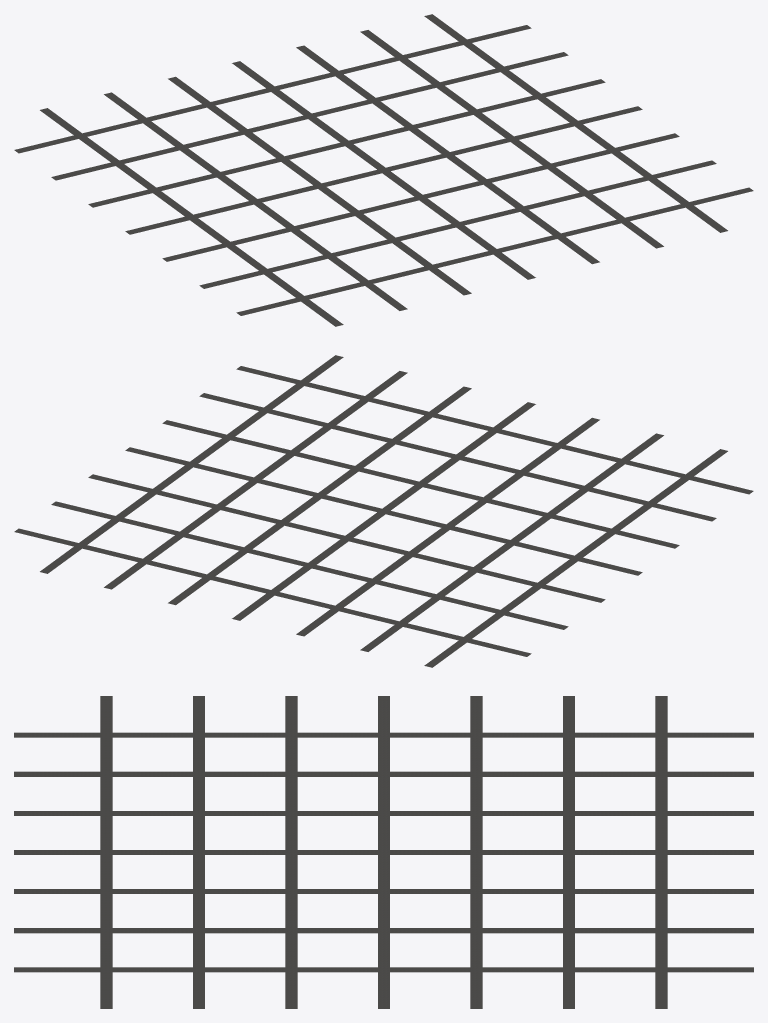
File: old_town_dense_scene.obj
3 renders of one model, top to bottom at view 1: azimuth 30°, elevation 25°; view 2: azimuth 150°, elevation 25°; view 3: azimuth 270°, elevation 25°, orthographic. The views are drawn at different scales.
Visible parts, largest first — view 1: old_town_dense_scene; view 2: old_town_dense_scene; view 3: old_town_dense_scene.
Boxes of the visible parts, box(x1,y1,x2,y2) form: old_town_dense_scene: box(14, 14, 753, 326); old_town_dense_scene: box(14, 355, 753, 667); old_town_dense_scene: box(14, 696, 753, 1008).
Size of the model in its own units: 2200 by 0 by 2200.
Materials: 1 (1 with a texture image).
